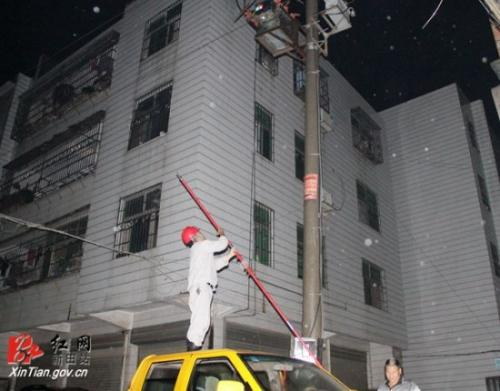boots: (186, 340, 202, 351)
gloves: (216, 227, 225, 236)
hard-hat: (182, 226, 201, 246)
person: (181, 224, 237, 351), (373, 358, 425, 391)
